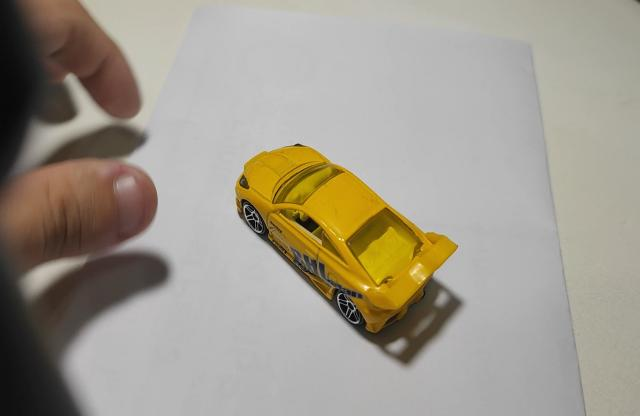07_RHLTURBO: (234, 145, 458, 337)
